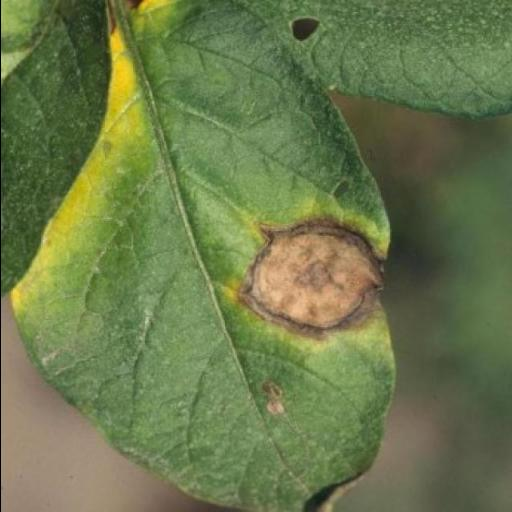Early Blight: (14, 0, 392, 512)
